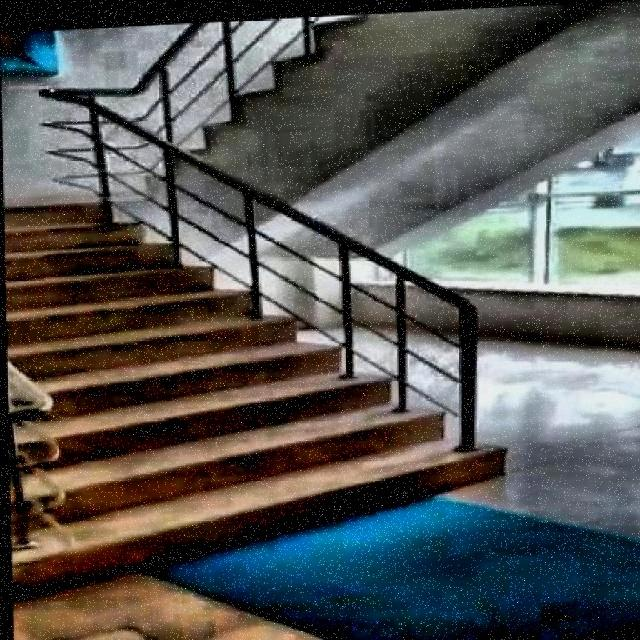stair: (4, 154, 516, 557)
